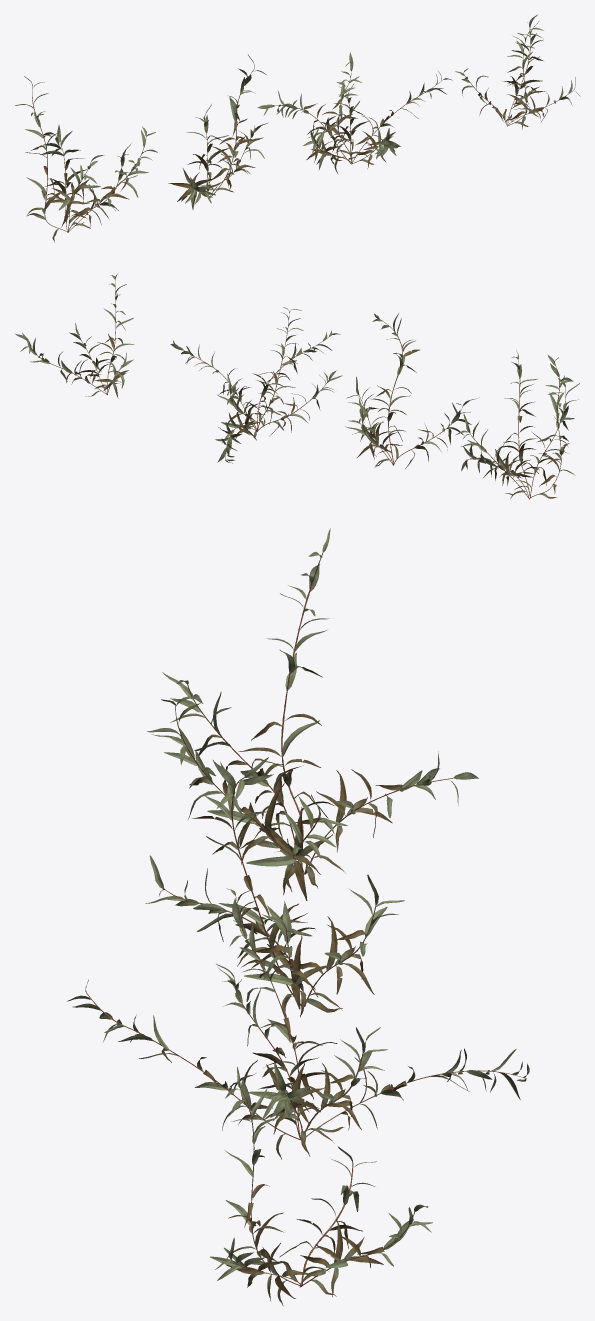
Rendered from shrub_02.glb.
3 views of the same model, one above another, from view 1: azimuth 30°, elevation 25°; view 2: azimuth 150°, elevation 25°; view 3: azimuth 270°, elevation 25° (orthographic). The views are drawn at different scales.
Parts seen in each view (by area): view 1: shrub_02_c, shrub_02_a, shrub_02_b, shrub_02_d; view 2: shrub_02_a, shrub_02_c, shrub_02_b, shrub_02_d; view 3: shrub_02_a, shrub_02_c, shrub_02_b, shrub_02_d.
Part boxes in pixels (box(x1,y1,x2,y2)): shrub_02_c: box(257, 52, 452, 174); shrub_02_a: box(15, 76, 157, 242); shrub_02_b: box(168, 54, 268, 209); shrub_02_d: box(455, 14, 580, 129); shrub_02_a: box(455, 350, 579, 499); shrub_02_c: box(170, 307, 342, 463); shrub_02_b: box(345, 313, 479, 468); shrub_02_d: box(14, 274, 134, 398); shrub_02_a: box(147, 528, 478, 900); shrub_02_c: box(67, 888, 529, 1159); shrub_02_b: box(145, 757, 404, 1018); shrub_02_d: box(210, 1066, 432, 1305).
Bounding box in the file's own units: 6.05 × 1.7 × 2.29.
1 material, 1 textured.
